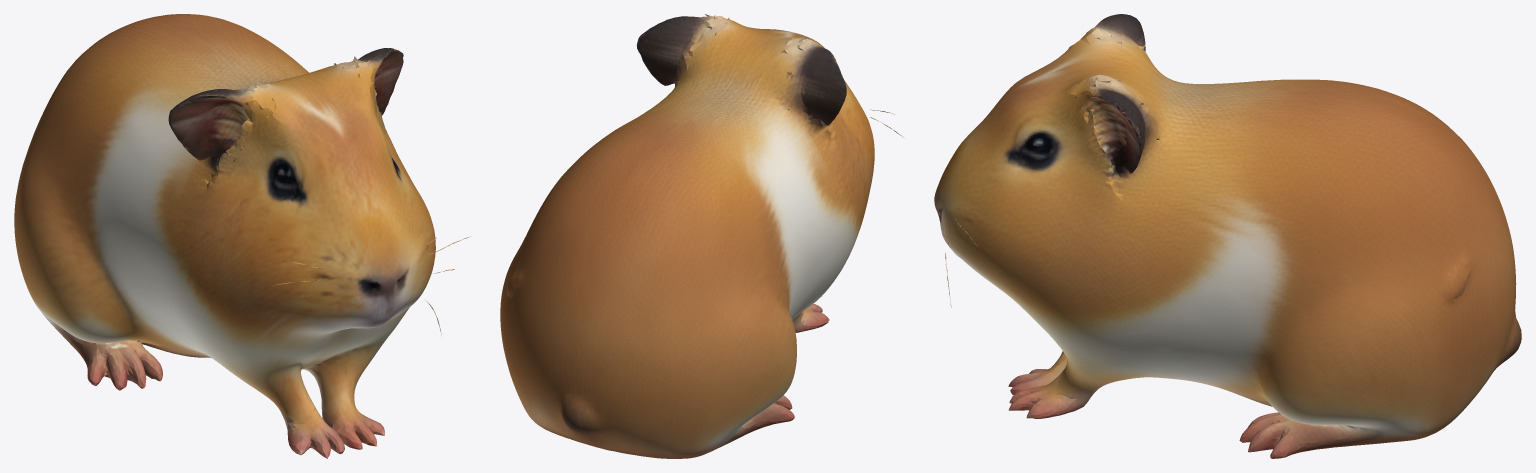
Rendered from guinea_pig.glb.
3 renders of one model, left to right at view 1: azimuth 30°, elevation 25°; view 2: azimuth 150°, elevation 25°; view 3: azimuth 270°, elevation 25°, orthographic. The views are drawn at different scales.
Parts seen in each view (by area): view 1: model; view 2: model; view 3: model.
Boxes of the visible parts, x1,y1,x2,y2 form: model: (14, 14, 469, 458); model: (500, 14, 904, 458); model: (934, 14, 1521, 458).
Size of the model in its own units: 1.1 by 1.22 by 1.89.
1 material, 1 textured.
